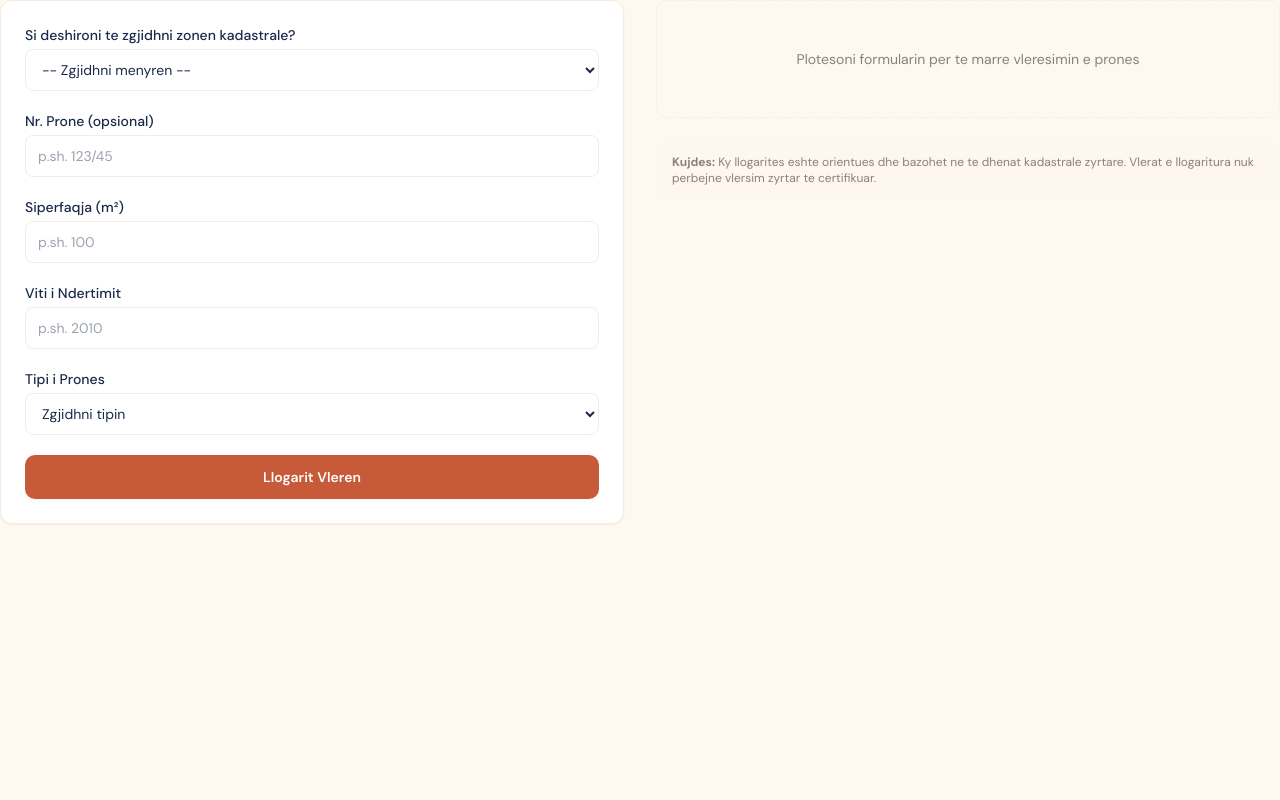
Scenario: ValuationCalculator › shows searchable zone list when 'Zgjidh nga Lista' selected
The width and height of the screenshot is (1280, 800).
Select "Zgjidh nga Lista" in the dropdown labelled "Si deshironi te zgjidhni zonen kadastrale?". click: [312, 70]
box: [25,49,599,91]
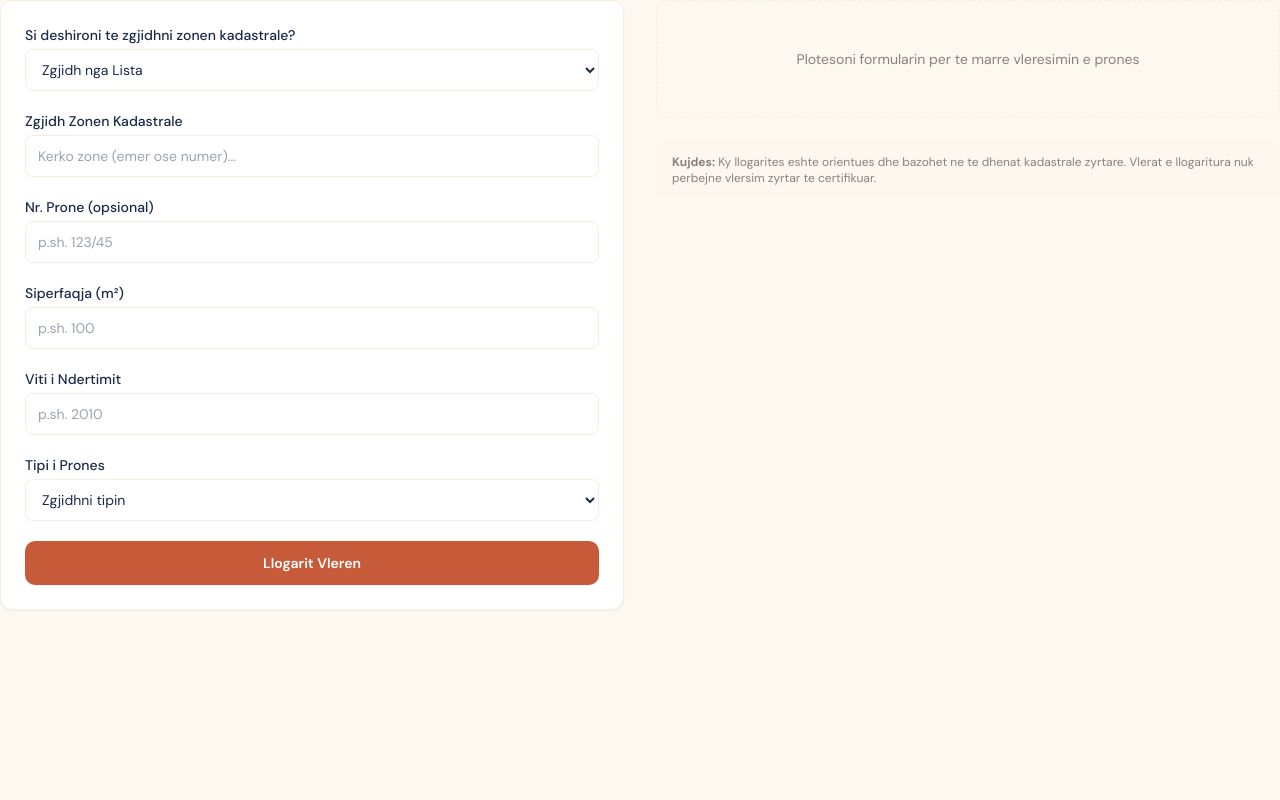
expect the dropdown with placeholder "Kerko zone (emer ose numer)..." is shown: met
Note: Focus to open dropdown, then check zone labels
Focus the dropdown with placeholder "Kerko zone (emer ose numer)...". click: [312, 156]
box: [25,135,599,177]
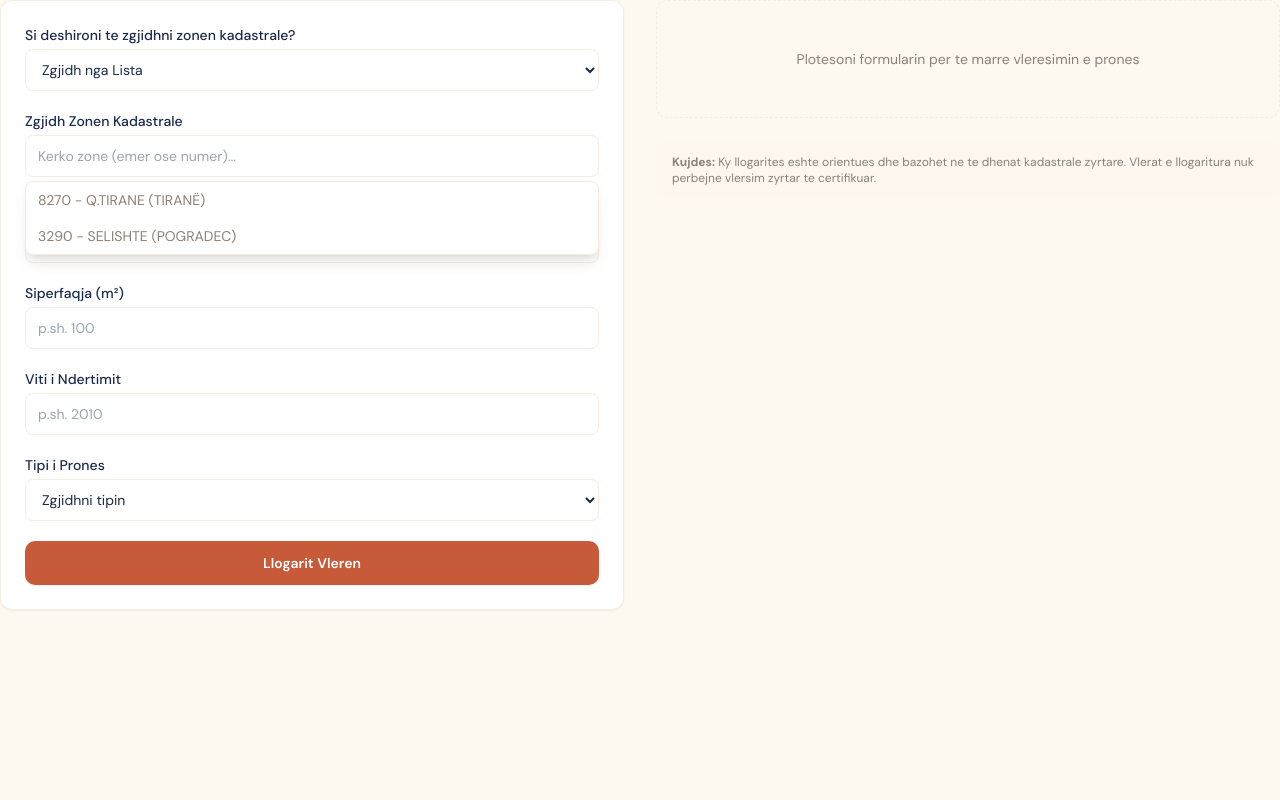
expect the option "8270 - Q.TIRANE (TIRANË)" is shown: met, box [38,191,205,209]
expect the option "3290 - SELISHTE (POGRADEC)" is shown: met, box [38,227,236,245]
